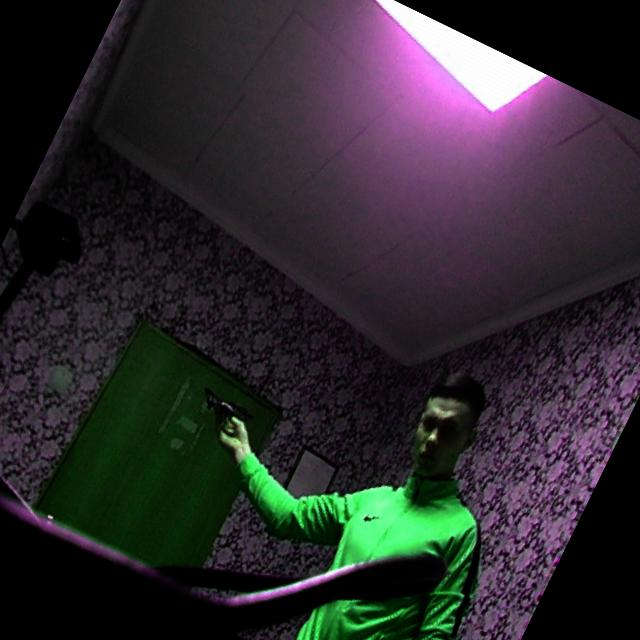drone: (185, 365, 268, 443)
